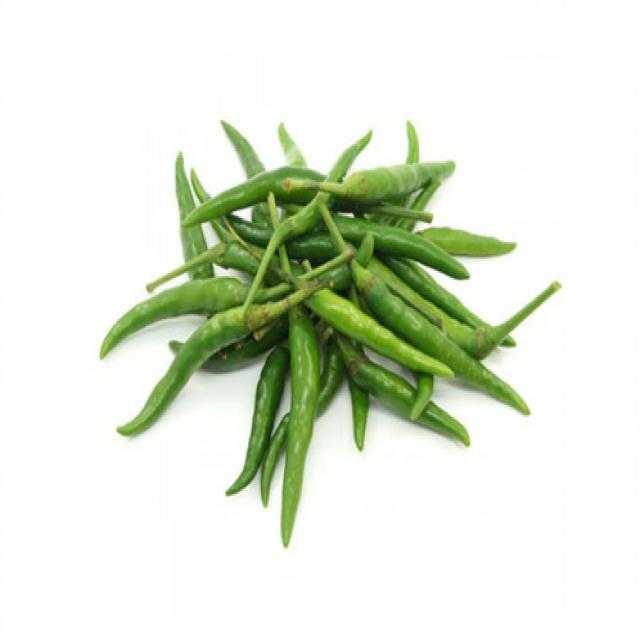green chilli: (352, 267, 531, 414), (117, 310, 253, 436), (307, 290, 455, 377), (102, 278, 249, 359), (281, 305, 321, 546), (182, 165, 325, 226), (320, 160, 456, 204), (258, 301, 289, 325)
